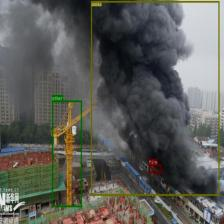fire: (149, 164, 161, 173)
smoke: (90, 1, 219, 195)
